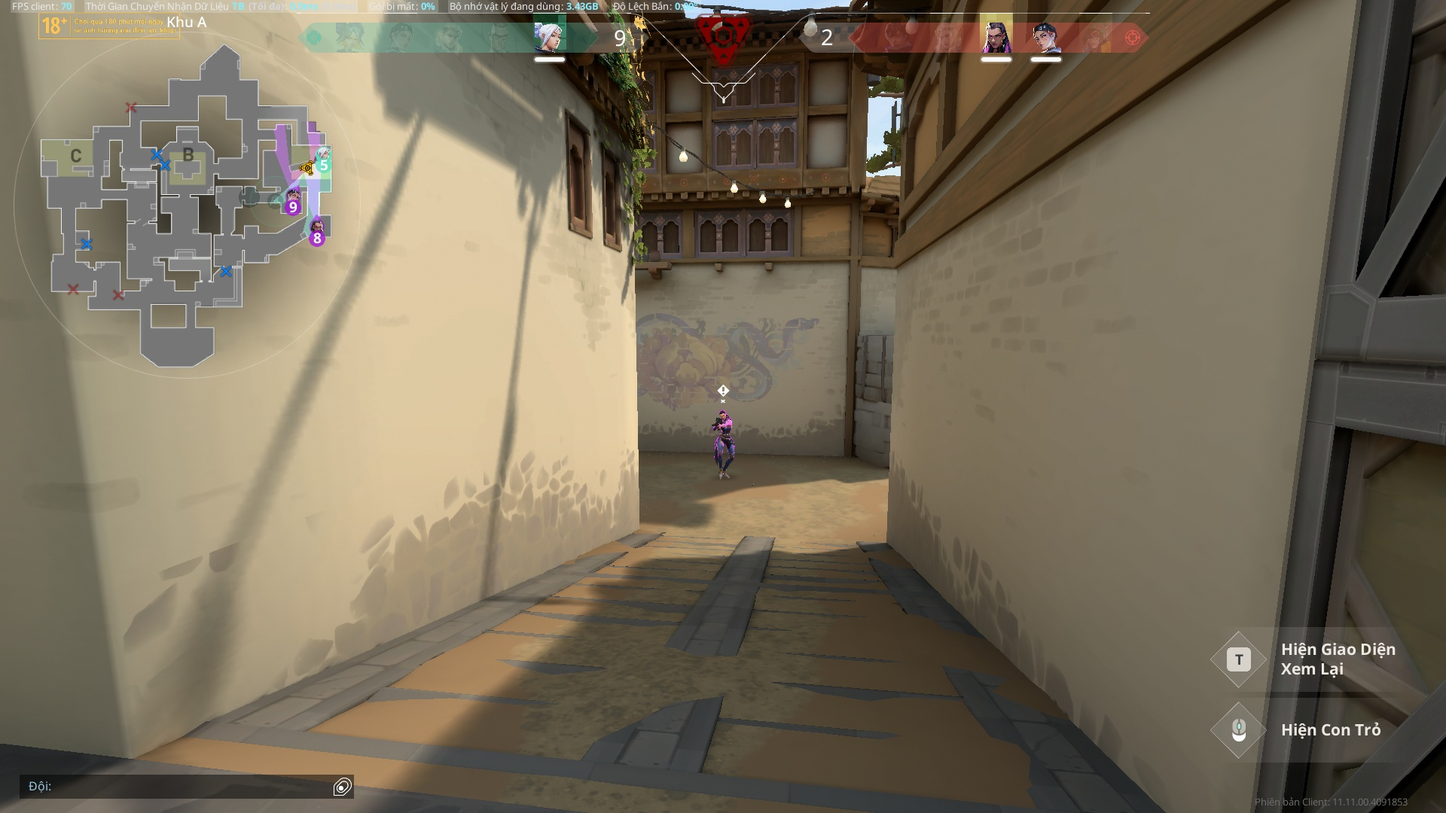body: (715, 418, 732, 434)
head: (717, 410, 727, 420)
